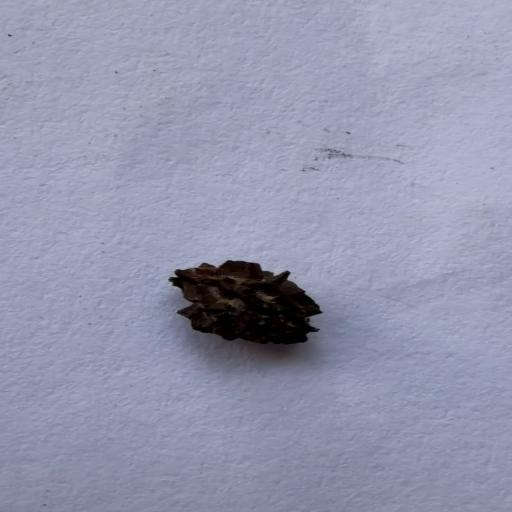papaya_seed: (156, 254, 320, 342)
